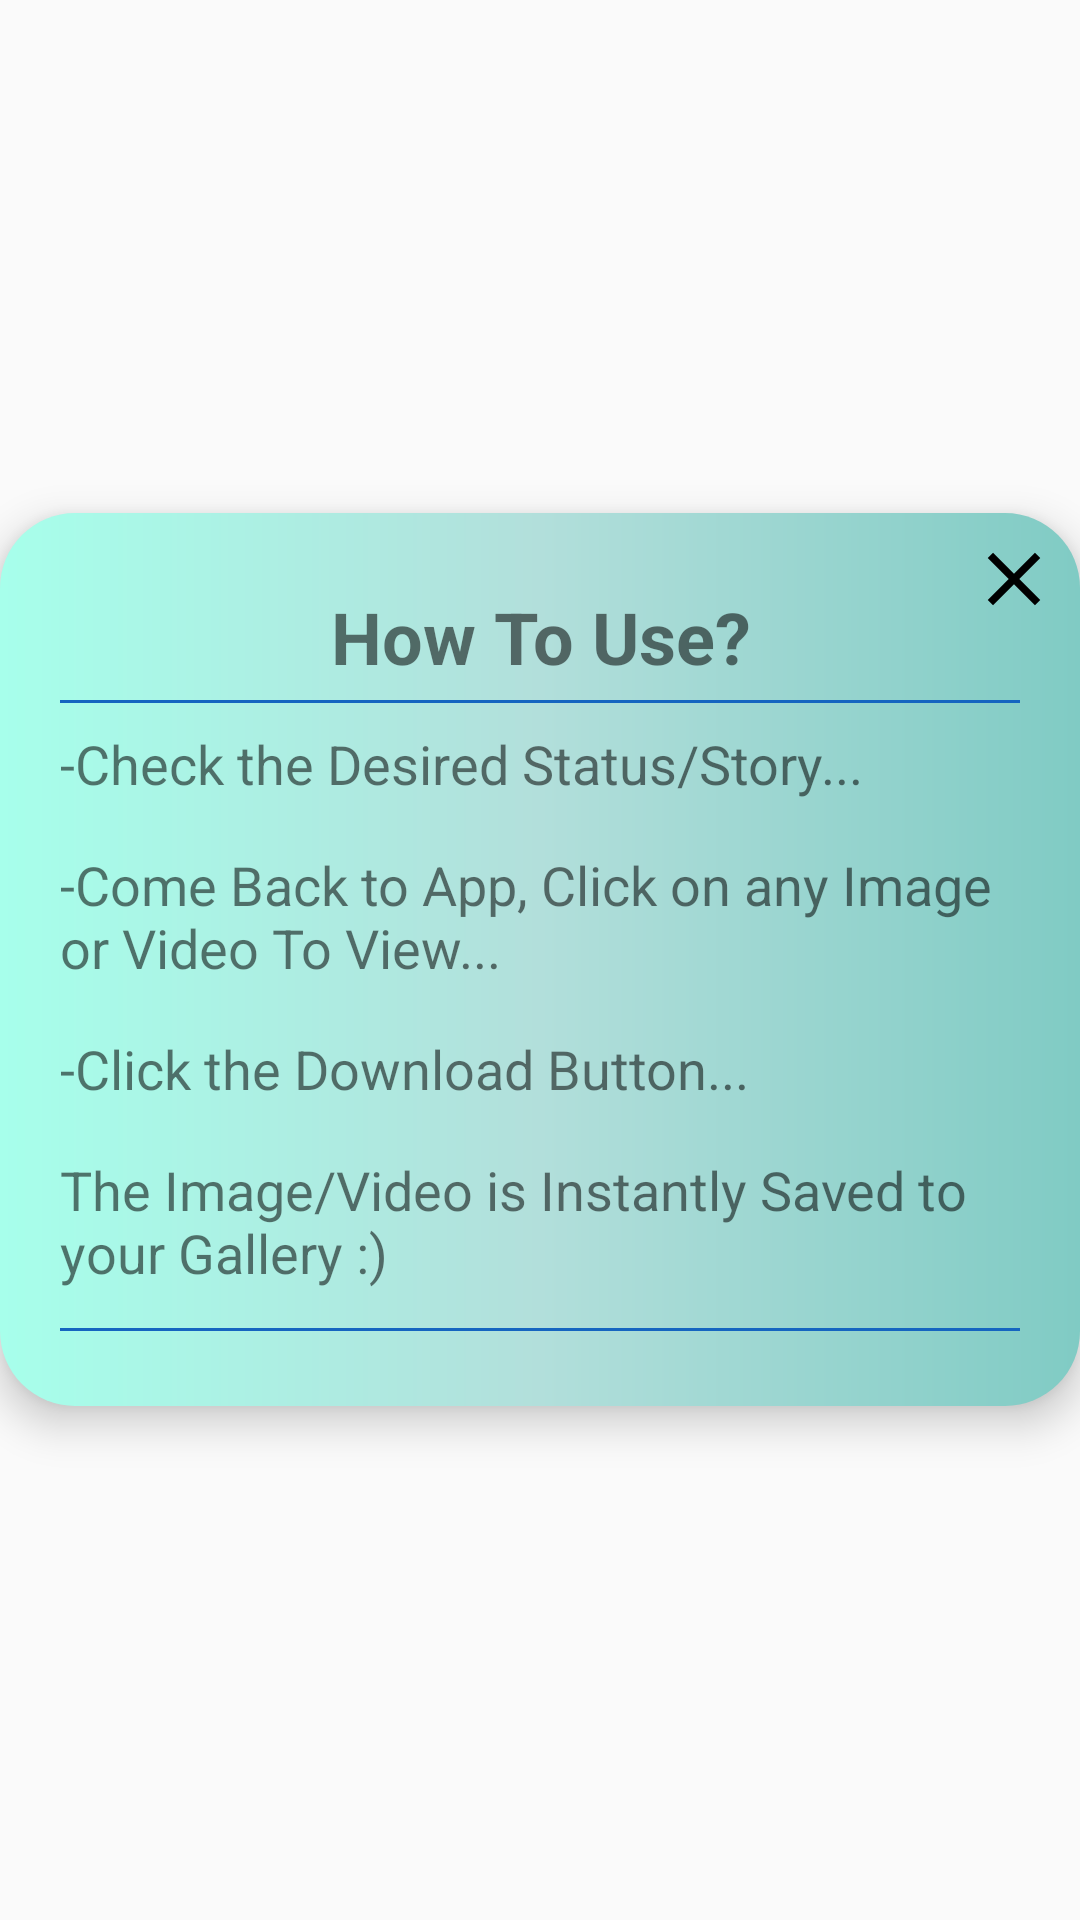

Point at icon controls on the screen. Image size 1080 x 1920, points as (x=x, y=y).
close: (x=1014, y=579)
